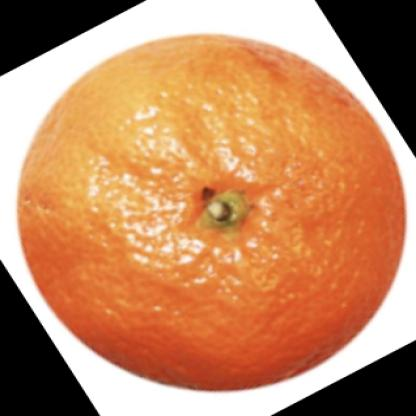fresh: (18, 34, 406, 393)
